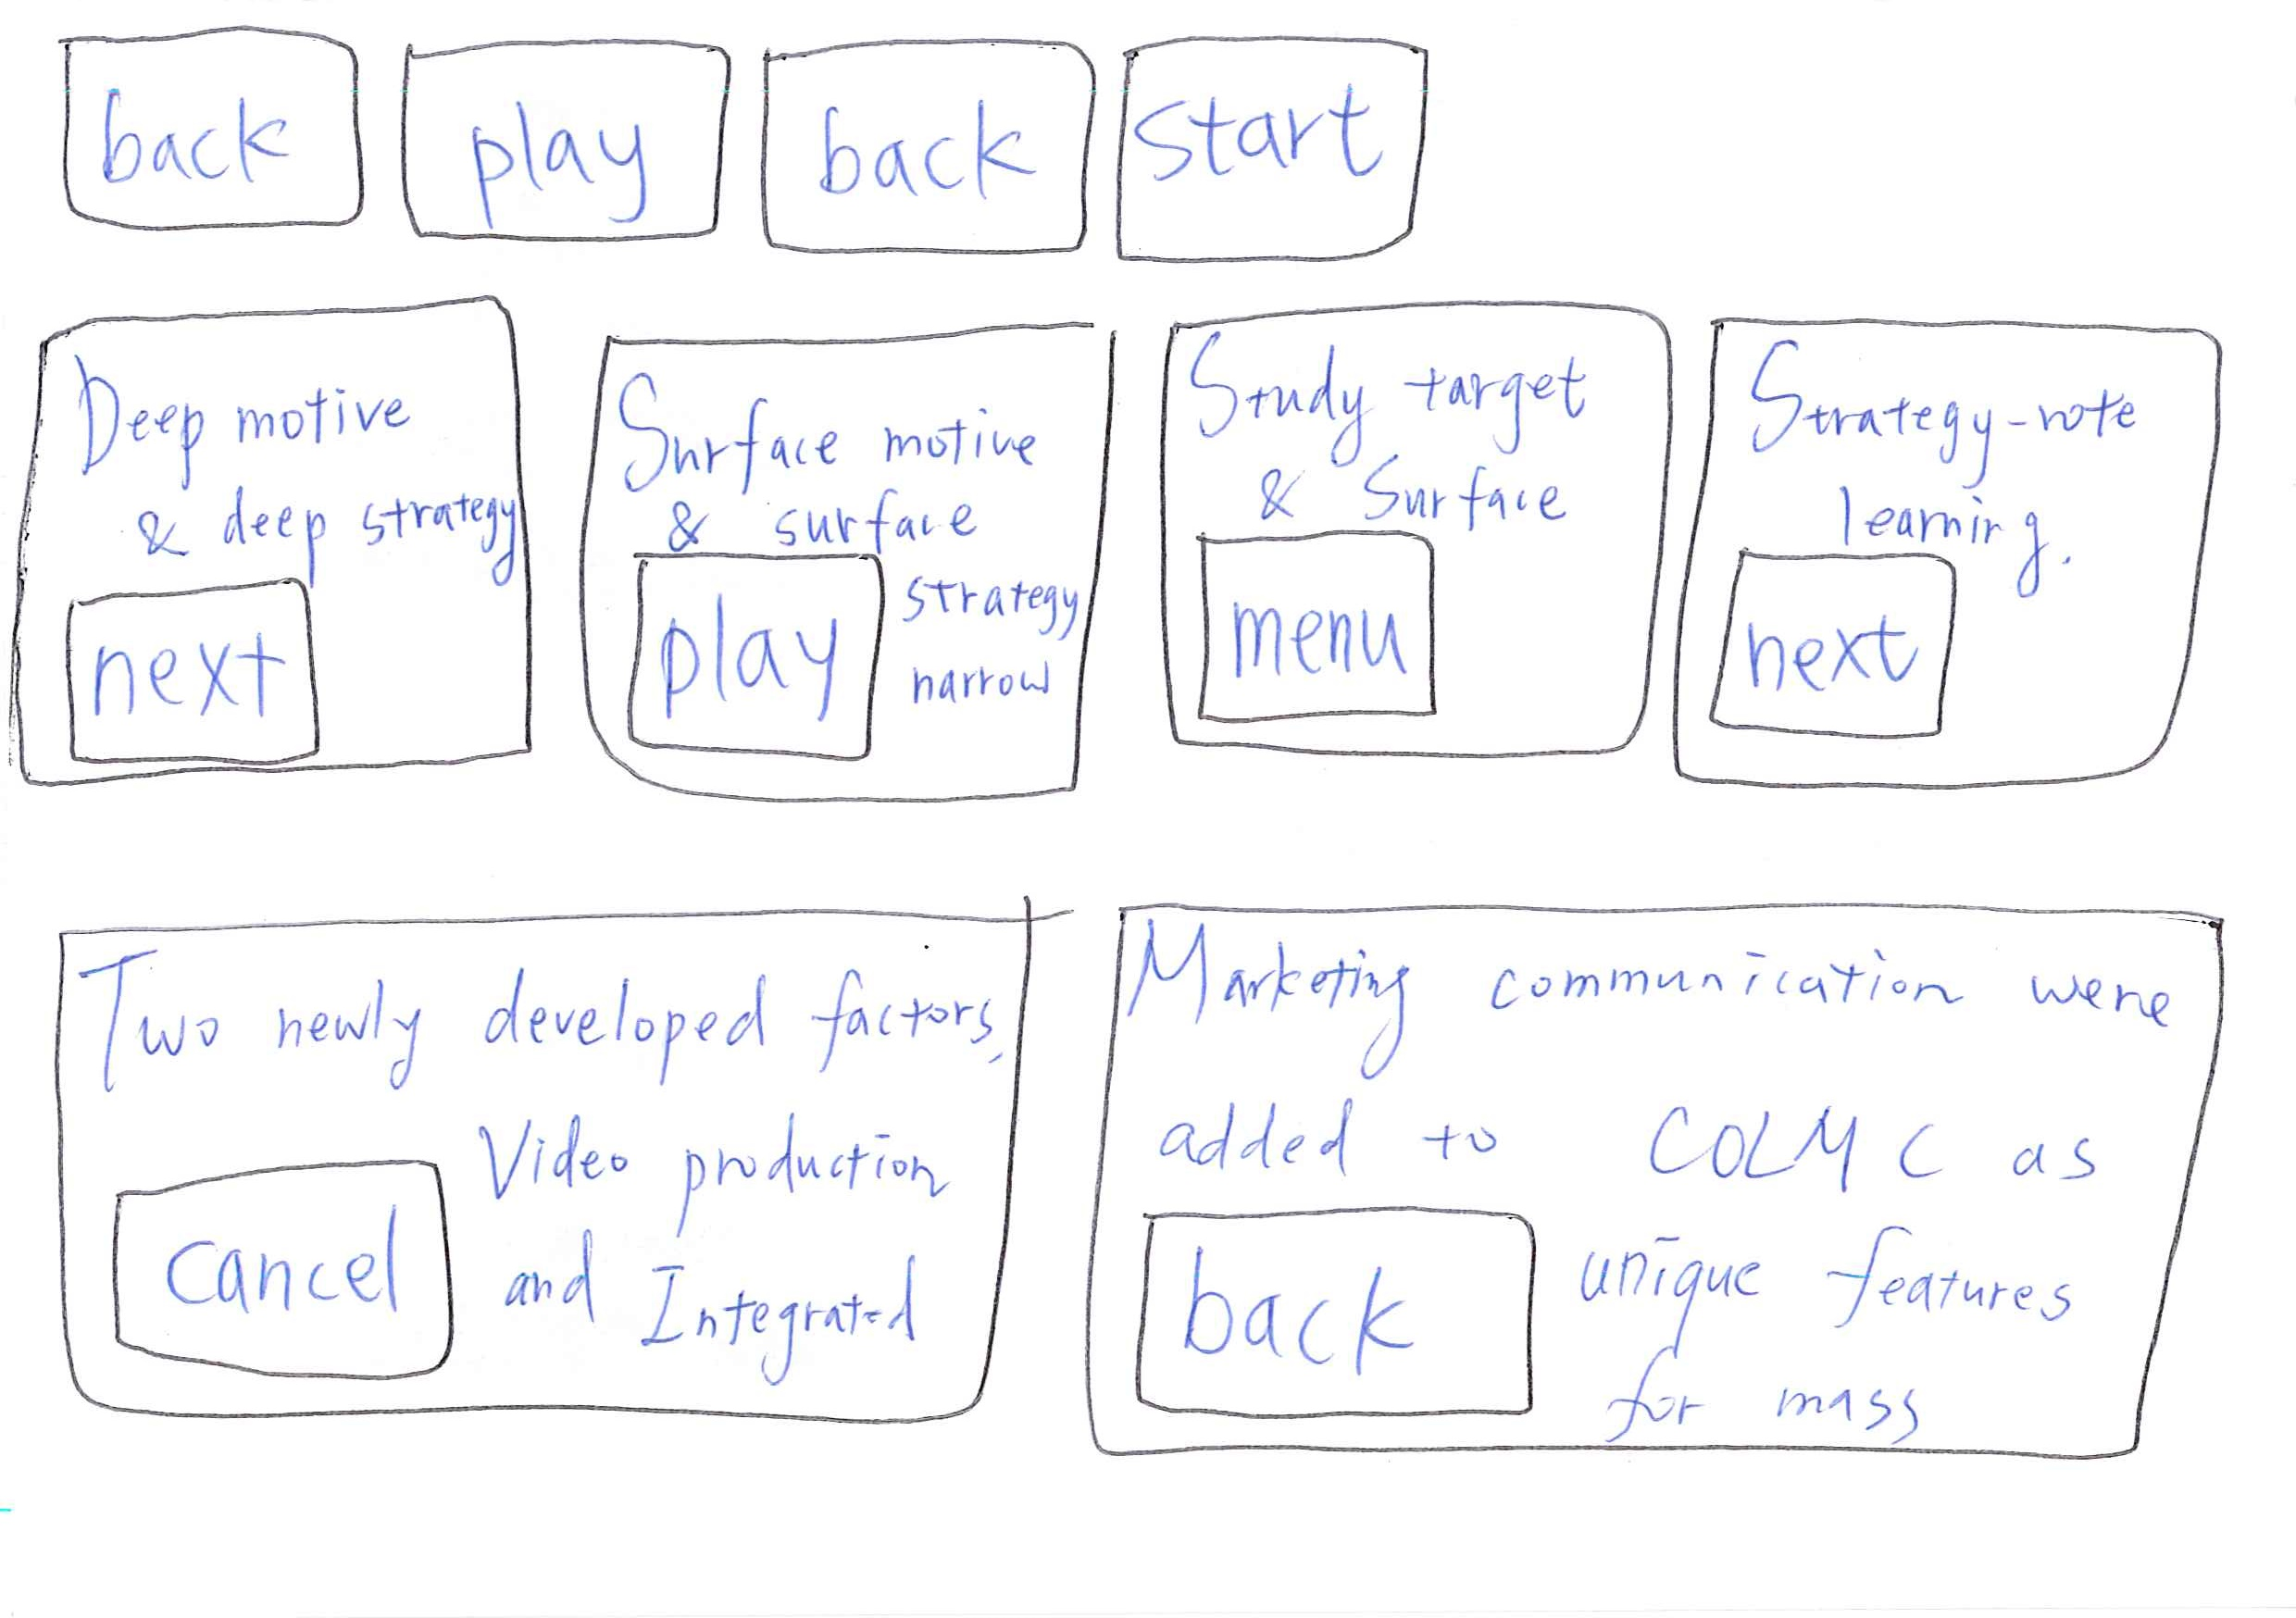back: (1112, 1192, 1573, 1441), (16, 7, 392, 271), (734, 25, 1093, 294)
cancel: (93, 1131, 487, 1404)
double: (1068, 853, 2296, 1487), (2, 869, 1070, 1483)
menu: (1173, 524, 1482, 763)
next: (2, 273, 602, 823), (40, 560, 347, 788), (1706, 539, 1960, 744)
play: (364, 12, 760, 285), (611, 539, 926, 795)
quadruple: (1093, 264, 1743, 811), (1655, 254, 2296, 784), (2, 277, 574, 811), (553, 285, 1126, 820)
row: (5, 867, 2263, 1555), (39, 277, 2296, 835), (9, 2, 2268, 280)
small-title: (1152, 916, 2166, 1061), (84, 951, 1011, 1084), (602, 361, 1070, 499), (1166, 341, 1609, 447), (68, 347, 443, 464), (1741, 362, 2168, 464)
start: (1105, 12, 1490, 303)
text: (1594, 1075, 2082, 1396), (466, 1080, 918, 1366), (1165, 1086, 2095, 1156), (131, 475, 501, 560), (900, 539, 1040, 720), (1214, 455, 1587, 520), (1844, 471, 2072, 545), (666, 499, 988, 546)
